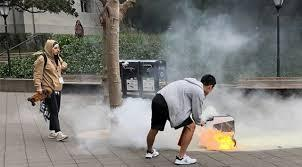smoke: (73, 90, 102, 93), (155, 8, 159, 15), (97, 90, 102, 94)
